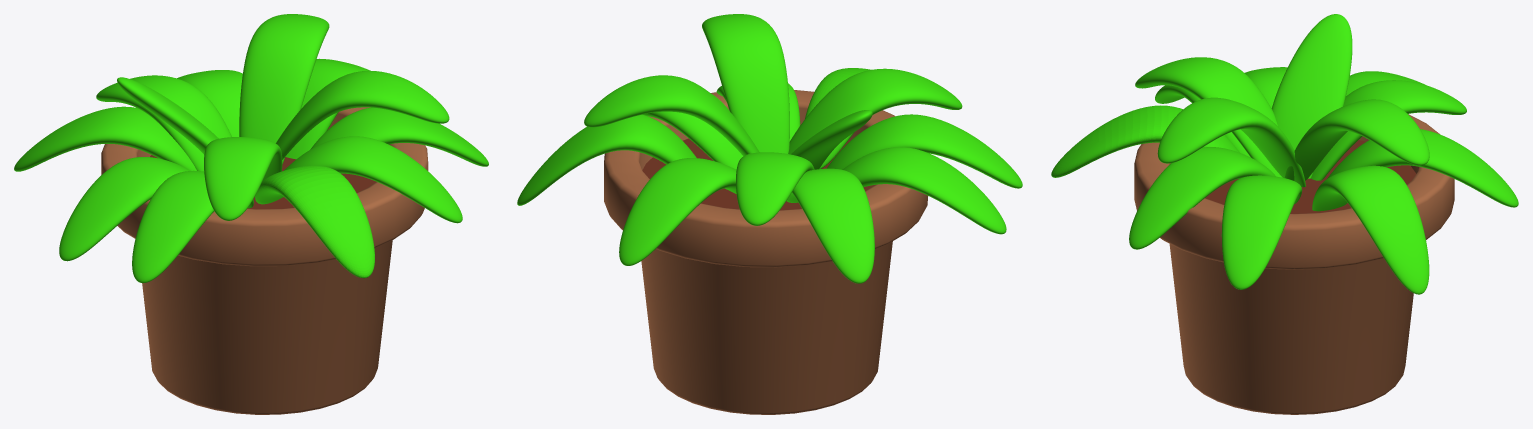
The model's file is flower.glb.
3 views of the same model, side by side, from view 1: azimuth 30°, elevation 25°; view 2: azimuth 150°, elevation 25°; view 3: azimuth 270°, elevation 25° (orthographic). The views are drawn at different scales.
Parts seen in each view (by area): view 1: leaves, pot; view 2: leaves, pot; view 3: leaves, pot.
Boxes of the visible parts, left/top/right/bottom form: leaves: left=14, top=14, right=488, bottom=282; pot: left=101, top=107, right=428, bottom=414; leaves: left=517, top=14, right=1022, bottom=283; pot: left=604, top=90, right=928, bottom=414; leaves: left=1051, top=14, right=1518, bottom=294; pot: left=1134, top=114, right=1454, bottom=414.
Size of the model in its own units: 4.27 by 2.97 by 4.23.
